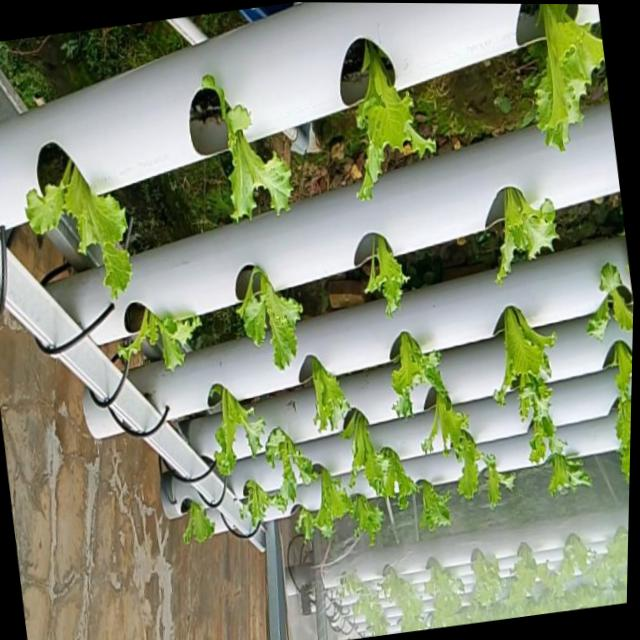Baby: (18, 163, 125, 303), (196, 78, 288, 224), (352, 42, 433, 203), (531, 4, 605, 152), (232, 271, 298, 375), (417, 389, 490, 479), (493, 189, 553, 286), (336, 410, 398, 500), (109, 316, 196, 379), (205, 388, 261, 481), (398, 453, 457, 539), (260, 429, 314, 512), (292, 469, 348, 544), (498, 306, 547, 391), (507, 355, 550, 444), (582, 263, 631, 341), (362, 238, 405, 320), (303, 359, 346, 435), (388, 334, 425, 418), (235, 483, 282, 536), (475, 454, 512, 508), (544, 453, 587, 496), (346, 496, 380, 547), (610, 394, 631, 476), (178, 509, 211, 551)
